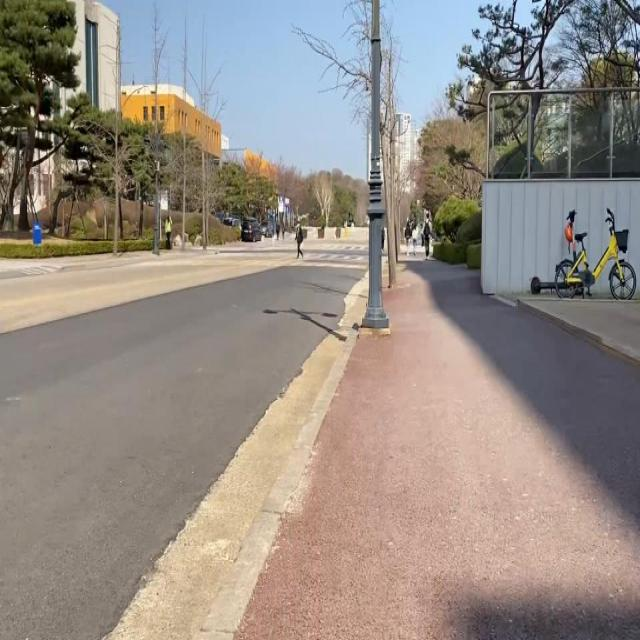sidewalk: (237, 261, 640, 639)
